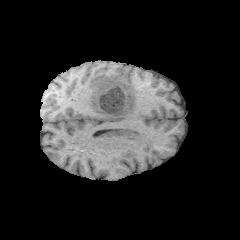glioma: (87, 74, 135, 158)
